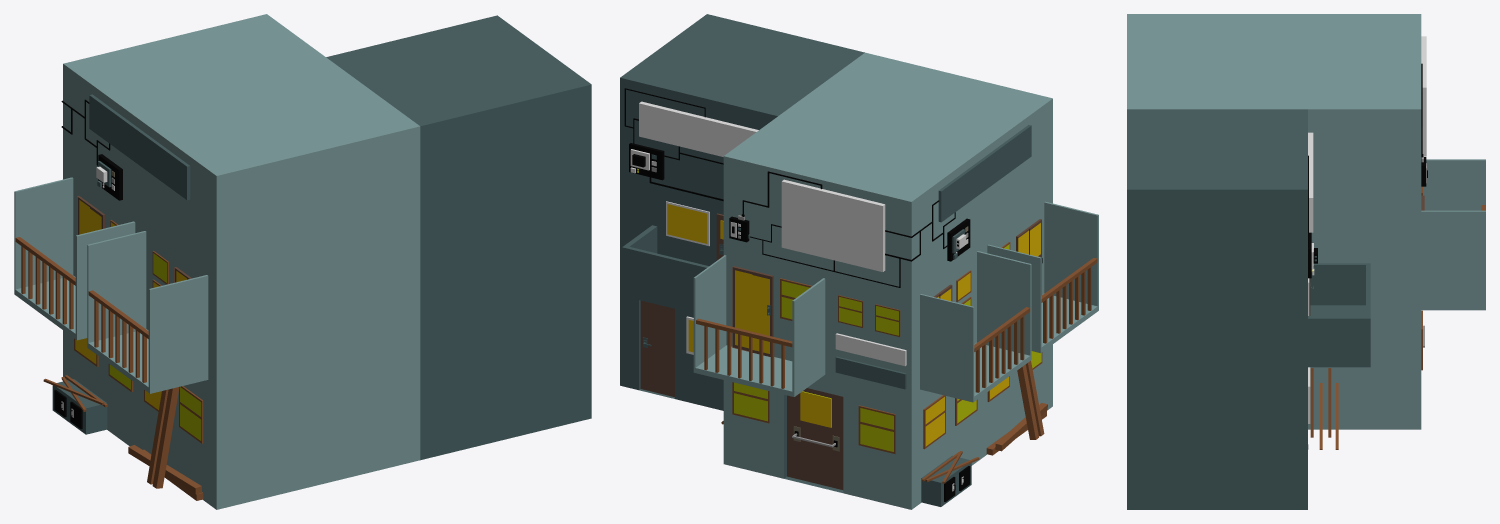
Rendered from Building 5 A4.fbx.
3 views of the same model, side by side, from view 1: azimuth 30°, elevation 25°; view 2: azimuth 150°, elevation 25°; view 3: azimuth 270°, elevation 25° (orthographic). The views are drawn at different scales.
Parts seen in each view (by area): view 1: Cube; view 2: Cube; view 3: Cube.
Part boxes in pixels (x1,y1,x2,y2): Cube: [14, 14, 591, 509]; Cube: [620, 14, 1098, 509]; Cube: [1127, 14, 1485, 509].
Bounding box in the file's own units: 1635 × 1204 × 1223.
